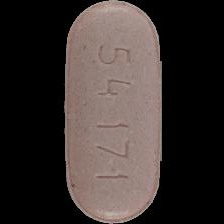0054-0099: (0, 0, 224, 224)
